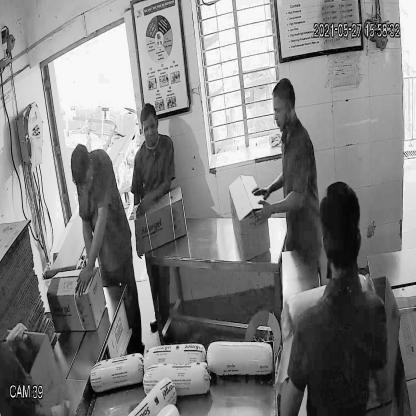no_goggles: (137, 118, 162, 139), (269, 100, 292, 122)
